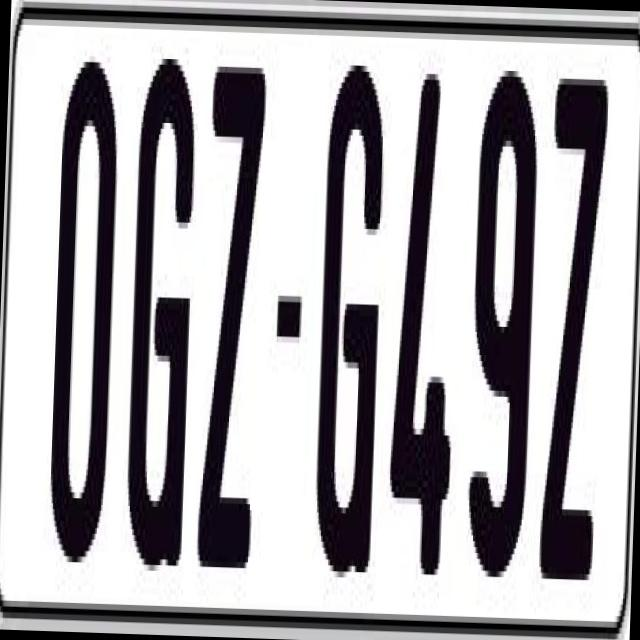0: (44, 54, 120, 592)
4: (385, 61, 473, 599)
9: (464, 64, 544, 596)
G: (310, 58, 393, 601), (120, 57, 194, 595)
Z: (192, 54, 270, 592), (535, 60, 611, 586)
